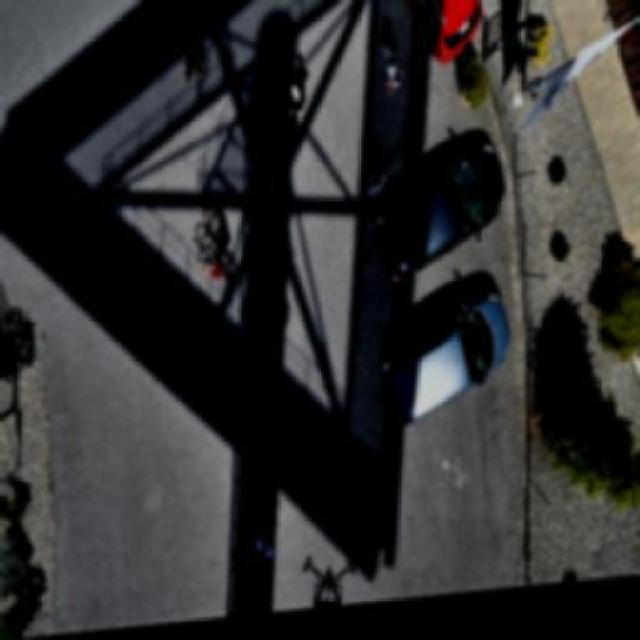Person: (250, 515, 288, 574), (176, 39, 210, 98), (193, 252, 233, 294), (361, 168, 394, 215), (283, 84, 311, 139), (382, 63, 412, 106), (378, 42, 400, 72)
